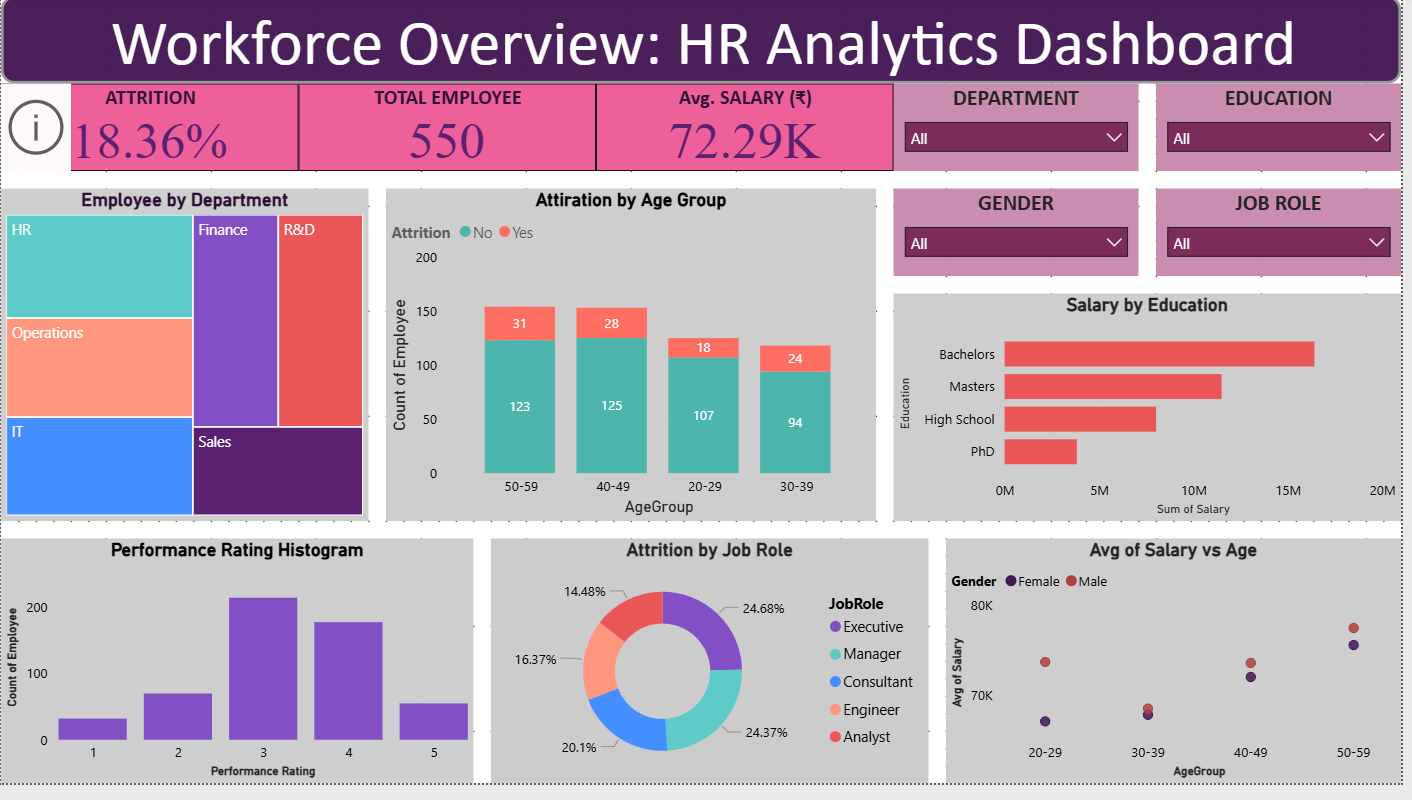

This screenshot's page, from the dashboard's own definition file:
{"tool":"powerbi","page":{"name":"Dashboard","canvas":[1280,720],"ordinal":0},"visuals":[{"type":"slicer","title":"DEPARTMENT","fields":{"Values":["HR_Analytics_Dataset.Department"]},"box":[816,80,224,80],"z":0},{"type":"card","title":"TOTAL EMPLOYEE","fields":{"Values":["CountNonNull(HR_Analytics_Dataset.EmployeeID)"]},"box":[272,80,272,80],"z":1000},{"type":"card","title":"ATTRITION","fields":{"Values":["HR_Analytics_Dataset.Attrition %"]},"box":[0,80,272,80],"z":2000},{"type":"treemap","title":" Employee by Department","fields":{"Details":["HR_Analytics_Dataset.Department"],"Values":["CountNonNull(HR_Analytics_Dataset.EmployeeID)"]},"box":[0,176,336,304],"z":3000},{"type":"columnChart","title":"Attiration by Age Group","fields":{"Category":["HR_Analytics_Dataset.AgeGroup"],"Y":["CountNonNull(HR_Analytics_Dataset.EmployeeID)"],"Series":["HR_Analytics_Dataset.Attrition"]},"box":[352,176,448,304],"z":4000},{"type":"clusteredBarChart","title":"Salary by Education","fields":{"Category":["HR_Analytics_Dataset.Education"],"Y":["Sum(HR_Analytics_Dataset.Salary)"]},"box":[816,272,464,208],"z":5000},{"type":"columnChart","title":"Performance Rating Histogram","fields":{"Category":["HR_Analytics_Dataset.PerformanceRating"],"Y":["CountNonNull(HR_Analytics_Dataset.EmployeeID)"]},"box":[0,496,432,224],"z":6000},{"type":"card","title":"Avg. SALARY (₹)","fields":{"Values":["HR_Analytics_Dataset.Avg Salary"]},"box":[544,80,272,80],"z":7000},{"type":"slicer","title":"GENDER","fields":{"Values":["HR_Analytics_Dataset.Gender"]},"box":[816,176,224,80],"z":8000},{"type":"slicer","title":"EDUCATION","fields":{"Values":["HR_Analytics_Dataset.Education"]},"box":[1056,80,224,80],"z":9000},{"type":"slicer","title":"JOB ROLE","fields":{"Values":["HR_Analytics_Dataset.JobRole"]},"box":[1056,176,224,80],"z":10000},{"type":"textbox","title":"Workforce Overview: HR Analytics Dashboard","box":[0,0,1280,80],"z":11000},{"type":"donutChart","title":"Attrition by Job Role","fields":{"Category":["HR_Analytics_Dataset.JobRole"],"Y":["HR_Analytics_Dataset.Attrition %"]},"box":[448,496,400,224],"z":12000},{"type":"scatterChart","title":"Avg of Salary vs Age","fields":{"Y":["Avg(HR_Analytics_Dataset.Salary)"],"X":["HR_Analytics_Dataset.AgeGroup"],"Series":["HR_Analytics_Dataset.Gender"]},"box":[864,496,416,224],"z":13000},{"type":"actionButton","box":[0,80,64,80],"z":14000}]}

Visuals, with their boxes in screenshot pixels (x1, y1, x2, y2), scaled from the page's 1280x720 canvas onto the 1412x800 screenshot:
"DEPARTMENT" slicer: box(900, 89, 1147, 178)
"TOTAL EMPLOYEE" card: box(300, 89, 600, 178)
"ATTRITION" card: box(0, 89, 300, 178)
" Employee by Department" treemap: box(0, 196, 371, 533)
"Attiration by Age Group" columnChart: box(388, 196, 882, 533)
"Salary by Education" clusteredBarChart: box(900, 302, 1411, 533)
"Performance Rating Histogram" columnChart: box(0, 551, 477, 799)
"Avg. SALARY (₹)" card: box(600, 89, 900, 178)
"GENDER" slicer: box(900, 196, 1147, 284)
"EDUCATION" slicer: box(1165, 89, 1411, 178)
"JOB ROLE" slicer: box(1165, 196, 1411, 284)
"Workforce Overview: HR Analytics Dashboard" textbox: box(0, 0, 1411, 89)
"Attrition by Job Role" donutChart: box(494, 551, 935, 799)
"Avg of Salary vs Age" scatterChart: box(953, 551, 1411, 799)
actionButton: box(0, 89, 71, 178)
